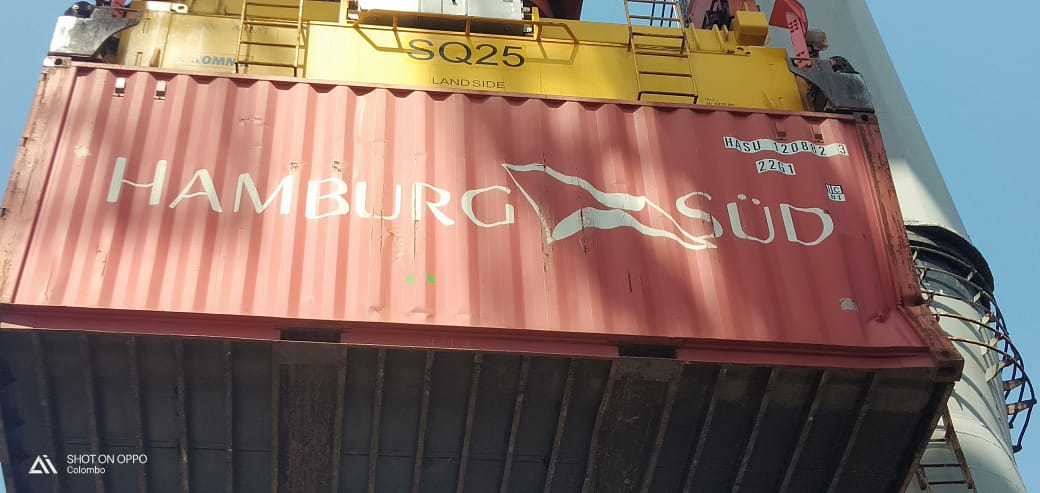moderate: (857, 259, 960, 353)
